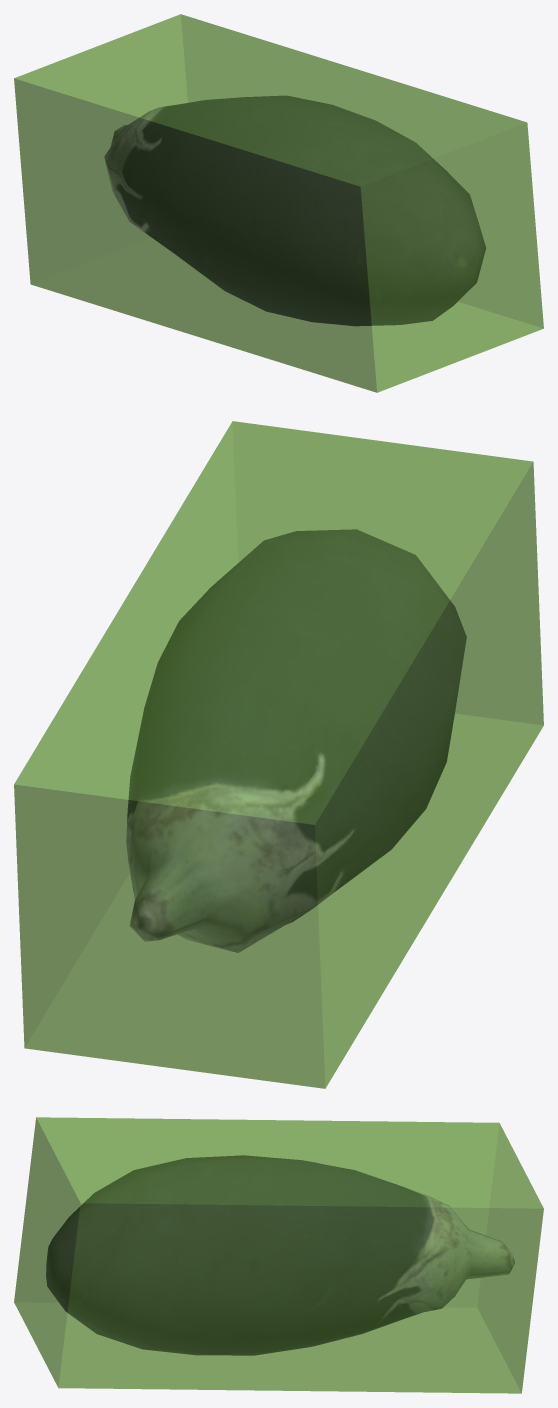
File: pg_Aubergine_02.fbx
The picture shows the model from 3 angles, top to bottom: view 1: azimuth 30°, elevation 25°; view 2: azimuth 150°, elevation 25°; view 3: azimuth 270°, elevation 25°; orthographic projection. The views are drawn at different scales.
Parts seen in each view (by area): view 1: pg_Aubergine_02_a_col, pg_Aubergine_02_a_LOD0; view 2: pg_Aubergine_02_a_col, pg_Aubergine_02_a_LOD0; view 3: pg_Aubergine_02_a_col, pg_Aubergine_02_a_LOD0.
Part boxes in pixels (x1,y1,x2,y2): pg_Aubergine_02_a_col: (14,14,543,392); pg_Aubergine_02_a_LOD0: (104,95,485,326); pg_Aubergine_02_a_col: (14,421,543,1088); pg_Aubergine_02_a_LOD0: (126,529,466,952); pg_Aubergine_02_a_col: (14,1117,543,1393); pg_Aubergine_02_a_LOD0: (46,1155,514,1355).
Size of what is drawn, in the model's own units: 14.56 by 12 by 24.93.
